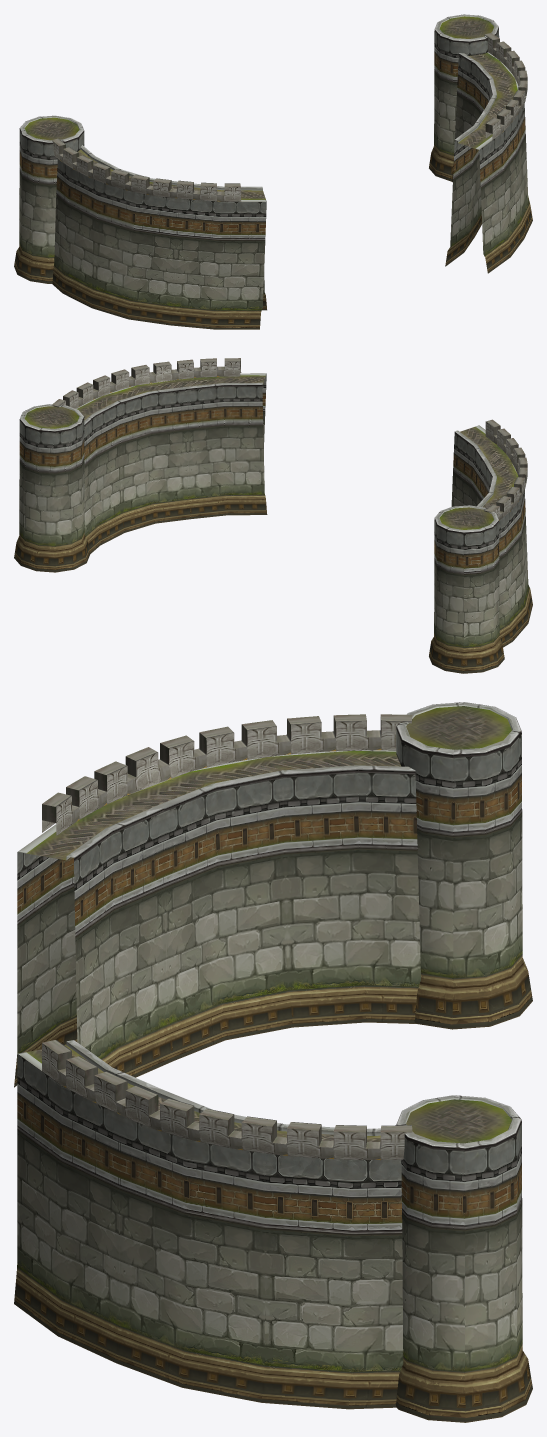
Rendered from DN_mcgate01wall.FBX.
The picture shows the model from 3 angles, top to bottom: view 1: azimuth 30°, elevation 25°; view 2: azimuth 150°, elevation 25°; view 3: azimuth 270°, elevation 25°; orthographic projection. The views are drawn at different scales.
Parts seen in each view (by area): view 1: DN_mcgate01wall; view 2: DN_mcgate01wall; view 3: DN_mcgate01wall.
Boxes of the visible parts, x1=… form: DN_mcgate01wall: x1=14, y1=14, x2=532, y2=329; DN_mcgate01wall: x1=14, y1=358, x2=532, y2=673; DN_mcgate01wall: x1=14, y1=702, x2=532, y2=1422.
Bounding box in the file's own units: 5128 × 1430 × 2467.
